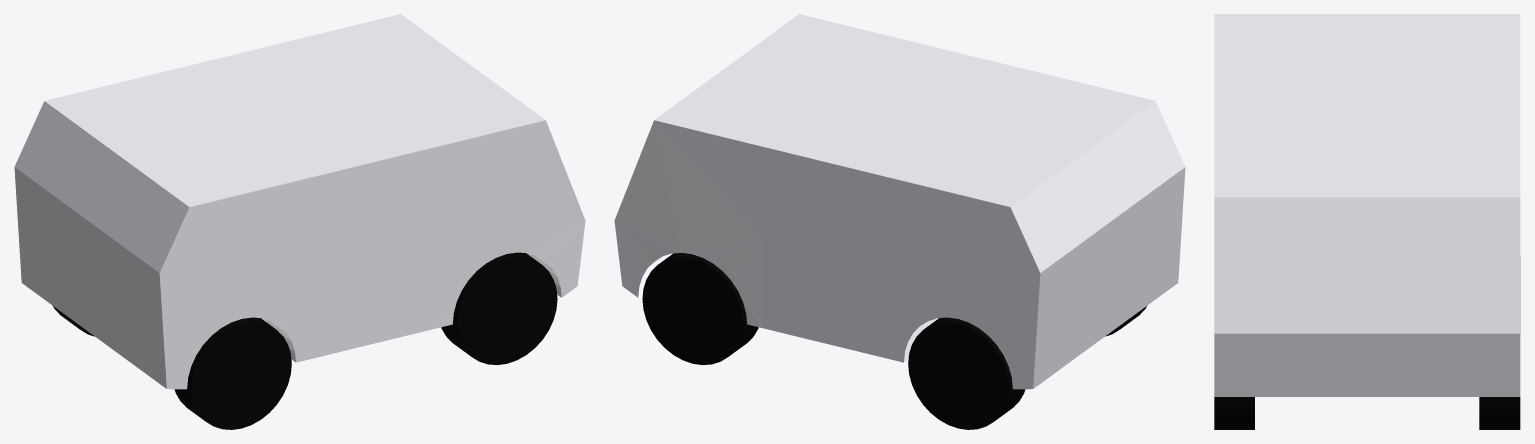
File: bus1.dae
The picture shows the model from 3 angles, left to right: view 1: azimuth 30°, elevation 25°; view 2: azimuth 150°, elevation 25°; view 3: azimuth 270°, elevation 25°; orthographic projection. The views are drawn at different scales.
Parts seen in each view (by area): view 1: Cube, Cylinder.001, Cylinder.002; view 2: Cube, Cylinder, Cylinder.003; view 3: Cube, Cylinder.003, Cylinder.002.
Part boxes in pixels (left/top/right/bottom): Cube: left=14, top=14, right=585, bottom=389; Cylinder.001: left=174, top=317, right=291, bottom=429; Cylinder.002: left=441, top=252, right=557, bottom=364; Cube: left=614, top=14, right=1185, bottom=389; Cylinder: left=908, top=317, right=1025, bottom=429; Cylinder.003: left=642, top=253, right=758, bottom=364; Cube: left=1214, top=14, right=1520, bottom=396; Cylinder.003: left=1479, top=397, right=1520, bottom=429; Cylinder.002: left=1214, top=397, right=1254, bottom=429.
Bounding box in the file's own units: 0.5083 × 0.3005 × 0.267.
2 materials, 2 textured.
